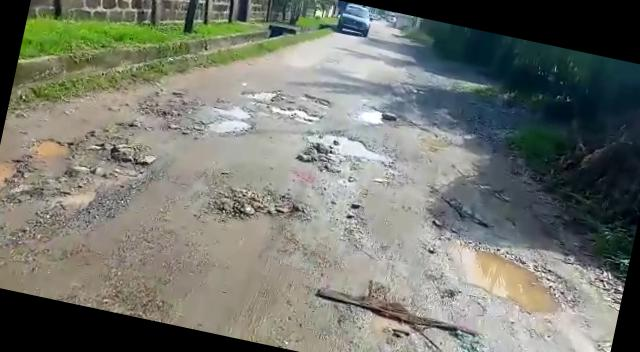pothole: (428, 230, 586, 318), (294, 123, 399, 172), (194, 102, 256, 142), (256, 95, 330, 126), (26, 132, 71, 162), (0, 152, 26, 201), (356, 102, 396, 128), (300, 93, 338, 111)
